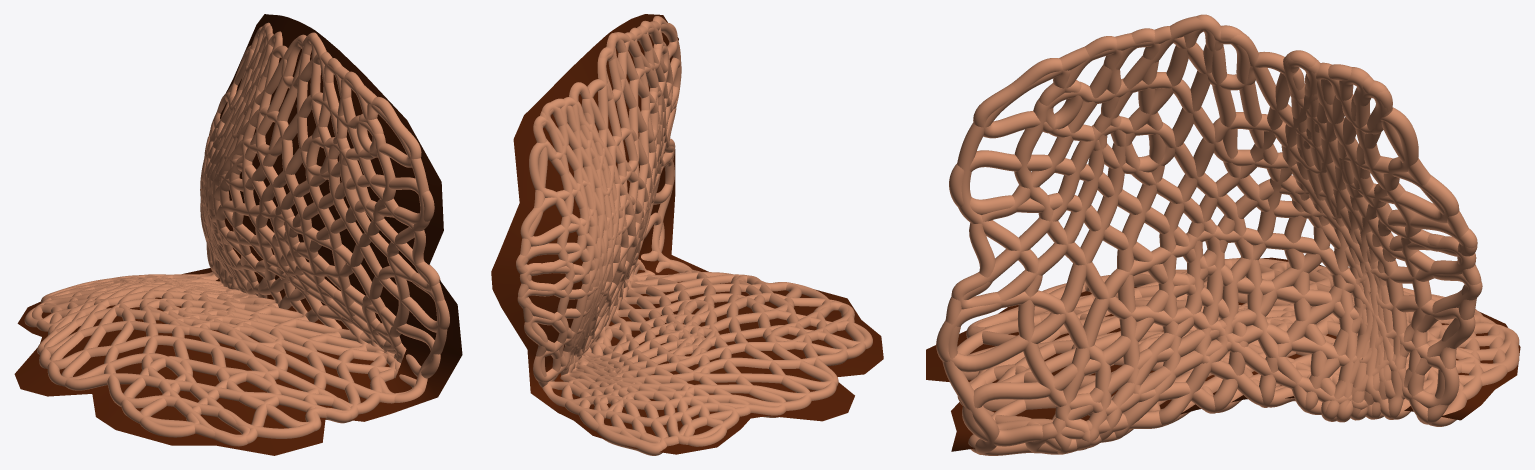
File: fungle mass 2.fbx
3 views of the same model, side by side, from view 1: azimuth 30°, elevation 25°; view 2: azimuth 150°, elevation 25°; view 3: azimuth 270°, elevation 25° (orthographic). The views are drawn at different scales.
Visible parts, largest first — view 1: Plane.001; view 2: Plane.001; view 3: Plane.001.
Boxes of the visible parts, <box> form: Plane.001: <box>14,14,462,455</box>; Plane.001: <box>491,14,883,455</box>; Plane.001: <box>926,14,1520,455</box>.
Size of the model in its own units: 249 by 242 by 306.
